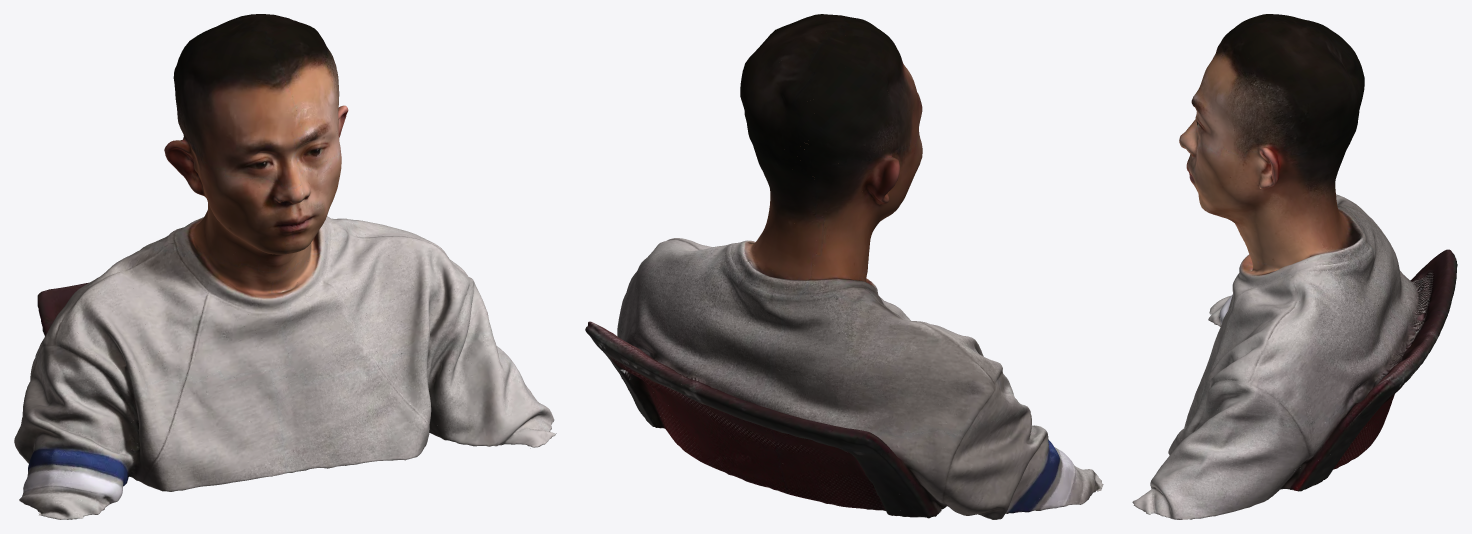
The model's file is 头像_带标注_短发男青年侧面01_opt.glb.
The picture shows the model from 3 angles, left to right: view 1: azimuth 30°, elevation 25°; view 2: azimuth 150°, elevation 25°; view 3: azimuth 270°, elevation 25°; orthographic projection. The views are drawn at different scales.
Visible parts, largest first — view 1: fghhdefaultMat, fghhdefaultMat_1; view 2: fghhdefaultMat, fghhdefaultMat_1; view 3: fghhdefaultMat, fghhdefaultMat_1.
Part boxes in pixels (x1,y1,x2,y2): fghhdefaultMat: (14,14,556,519); fghhdefaultMat_1: (19,14,551,518); fghhdefaultMat: (585,14,1103,519); fghhdefaultMat_1: (590,21,1097,514); fghhdefaultMat: (1132,14,1457,519); fghhdefaultMat_1: (1145,17,1455,514).
Bounding box in the file's own units: 0.3641 × 0.3 × 0.2265.
Materials: 1 (1 with a texture image).
